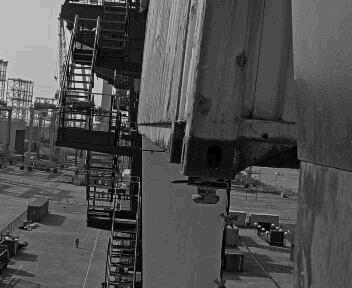twist_lock_1: (161, 160, 202, 194)
